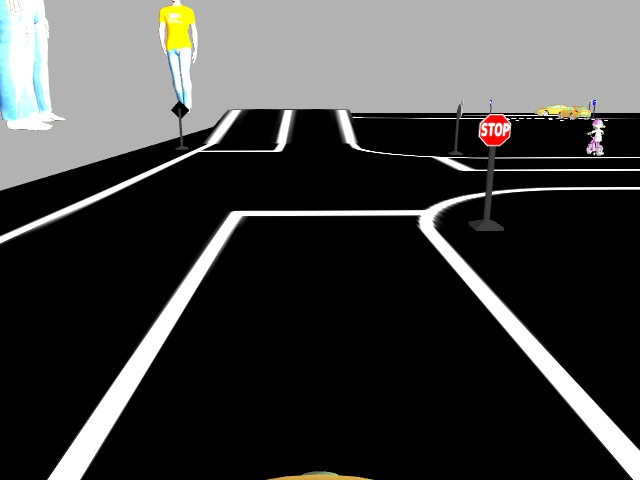Stop: (476, 112, 514, 147)
